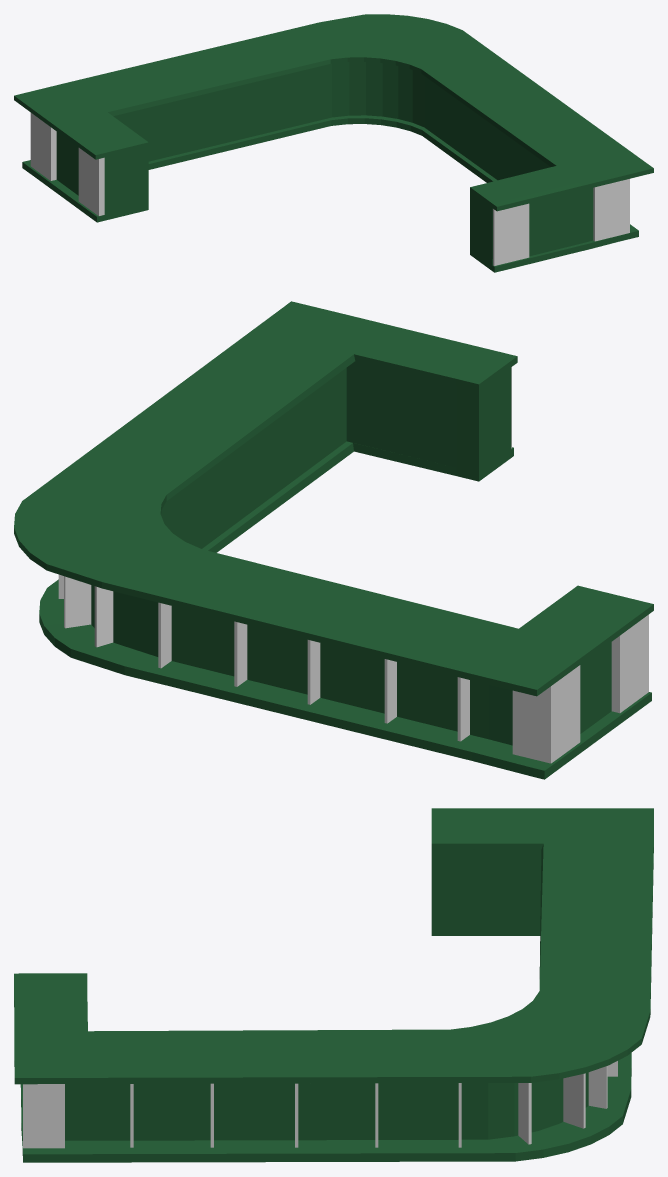
Rendered from bar.fbx.
3 views of the same model, one above another, from view 1: azimuth 30°, elevation 25°; view 2: azimuth 150°, elevation 25°; view 3: azimuth 270°, elevation 25° (orthographic). The views are drawn at different scales.
Parts seen in each view (by area): view 1: Bar, Cube, Cube.016, Cube.015, Cube.001; view 2: Bar, Cube.001, Cube.015, Cube.013, Cube.014, Cube.006, Cube.005, Cube.004, Cube.003, Cube.002; view 3: Bar, Cube, Cube.013, Cube.012, Cube.014.
Boxes of the visible parts, x1,y1,x2,y2 form: Bar: (14, 14, 653, 272); Cube: (593, 179, 629, 241); Cube.016: (493, 203, 529, 265); Cube.015: (78, 148, 104, 215); Cube.001: (30, 113, 56, 180); Bar: (14, 301, 653, 779); Cube.001: (512, 665, 580, 763); Cube.015: (611, 614, 648, 713); Cube.013: (64, 576, 91, 628); Cube.014: (94, 586, 113, 647); Cube.006: (158, 602, 171, 668); Cube.005: (234, 621, 247, 686); Cube.004: (307, 640, 320, 704); Cube.003: (384, 659, 396, 723); Cube.002: (457, 677, 469, 741); Bar: (14, 808, 653, 1162); Cube: (23, 1084, 64, 1148); Cube.013: (563, 1073, 585, 1128); Cube.012: (518, 1083, 531, 1144); Cube.014: (588, 1066, 607, 1108).
Bounding box in the file's own units: 773 × 124 × 775.
